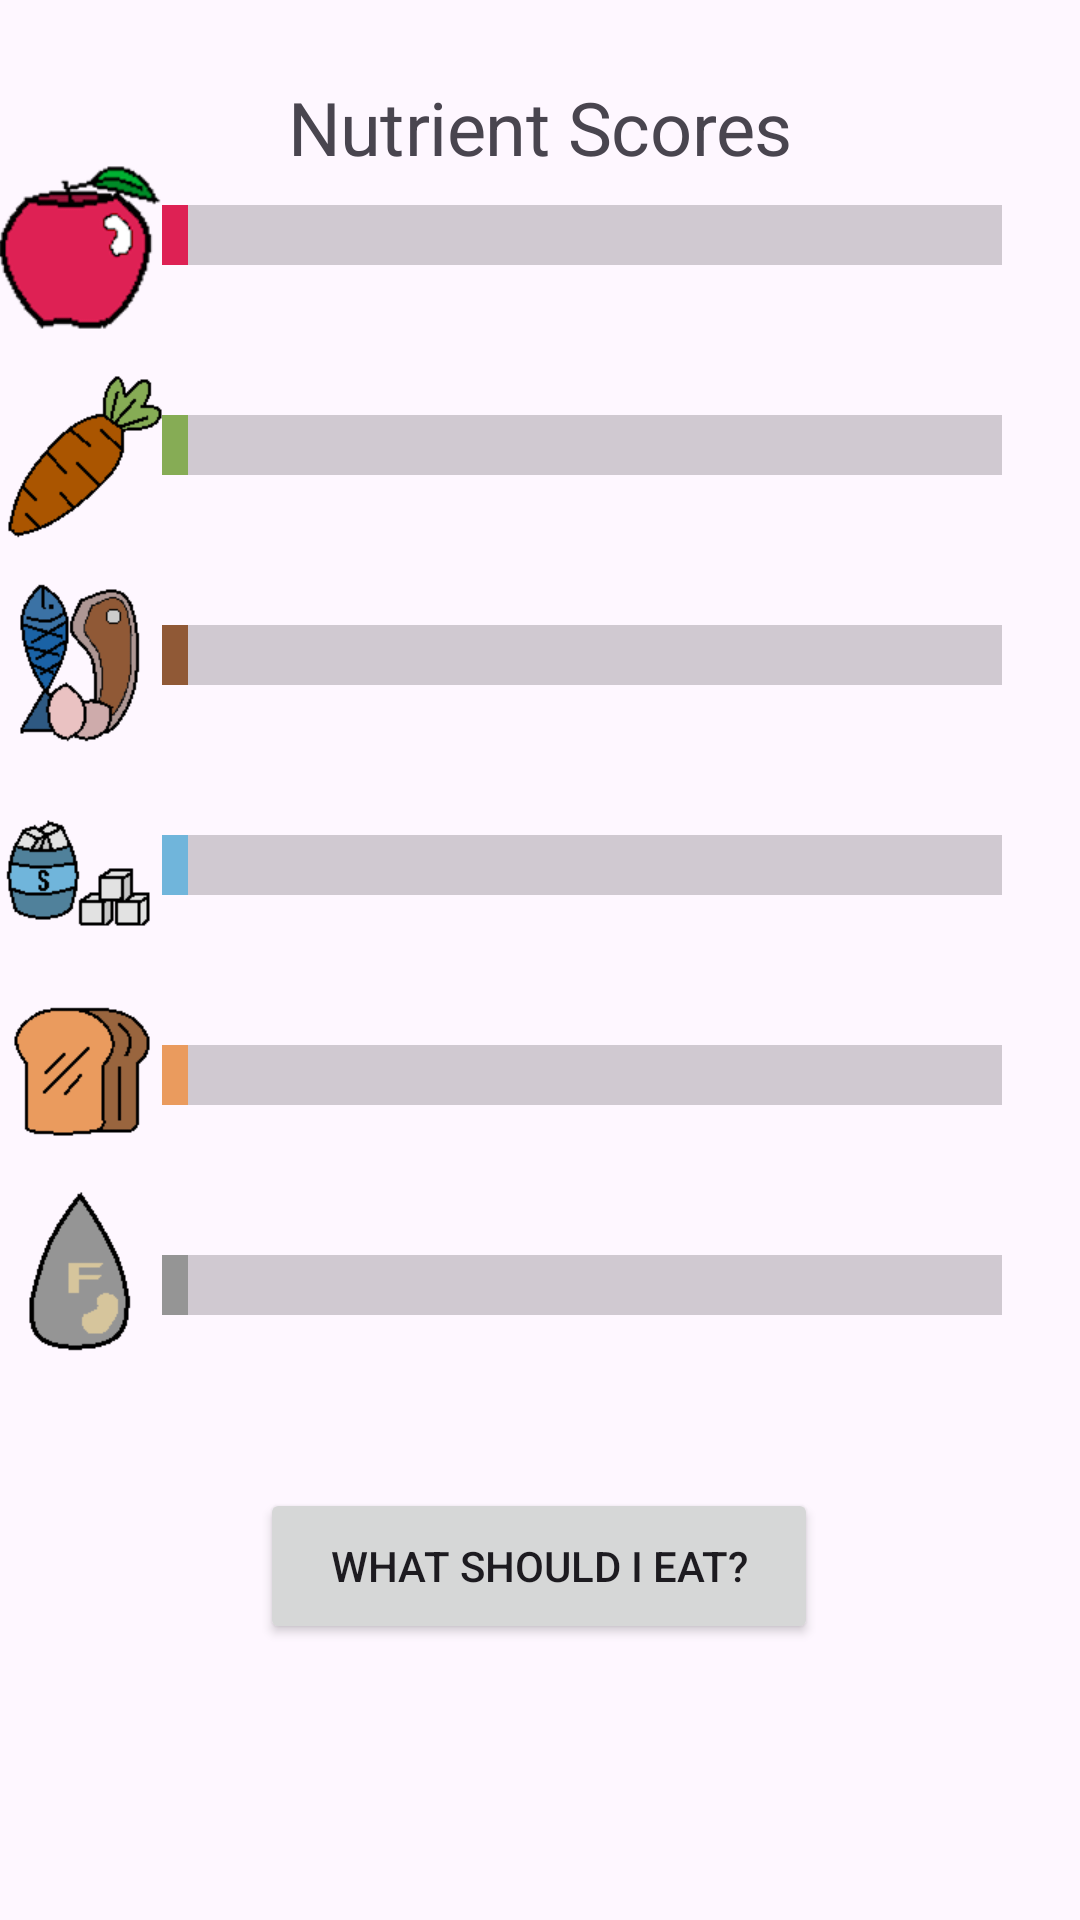

Icons on this 1080 x 1920 Android screen, each with the point to tap as point (x, y):
An image of a carrot: point (91, 457)
An image of a fat droplet: point (80, 1271)
An image of an apple: point (80, 247)
An image of bread: point (82, 1071)
An image of heavy protein foods: point (80, 663)
An image of sugar: point (78, 873)
